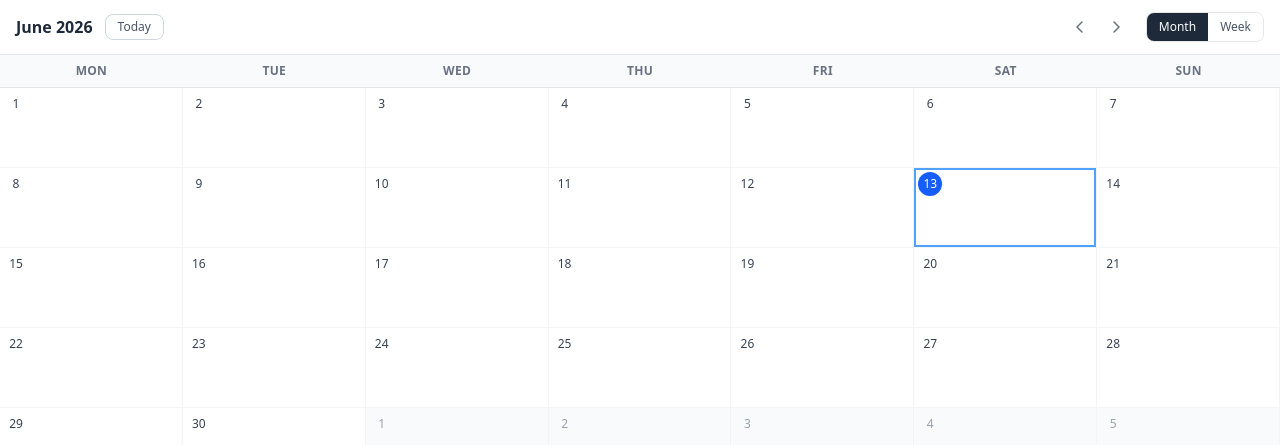
Test: WorkPackageCalendar › switches to week view when Week button is clicked
Click the button "Week" at point(1236, 27), box x1=1208 y1=13 x2=1263 y2=41
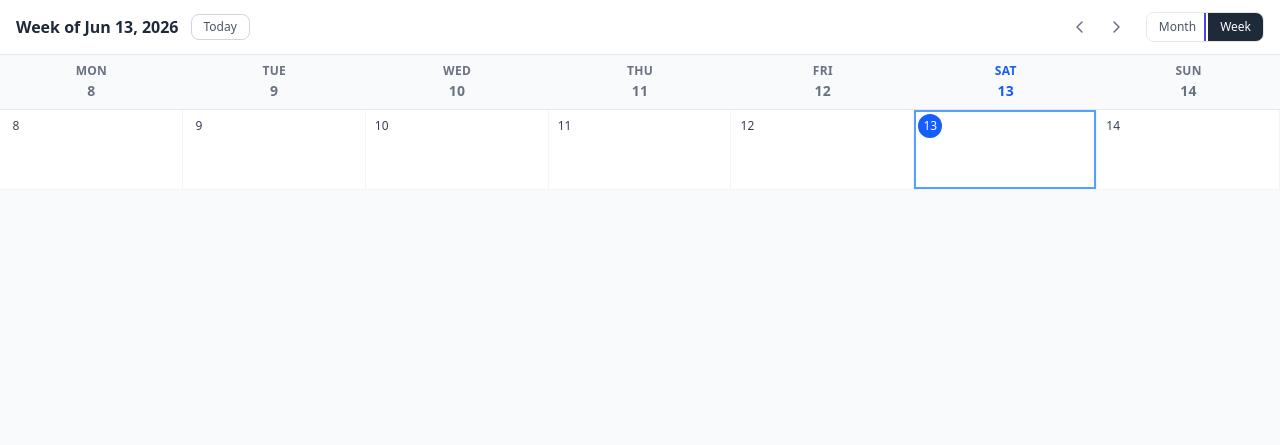
Now the heading "Week of Jun 13, 2026" is shown, box x1=16 y1=15 x2=178 y2=39
